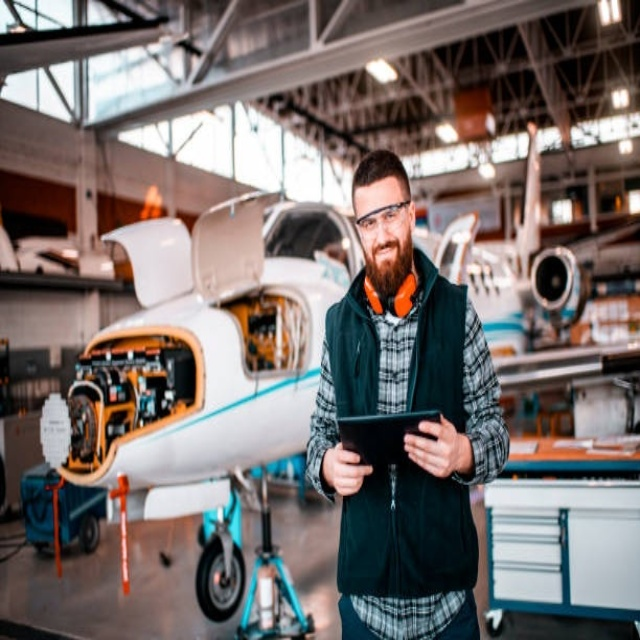Gafas: (357, 199, 411, 230)
Sin_guantes: (404, 412, 466, 480), (327, 441, 373, 496)
Sin_mascara: (366, 237, 399, 267)
